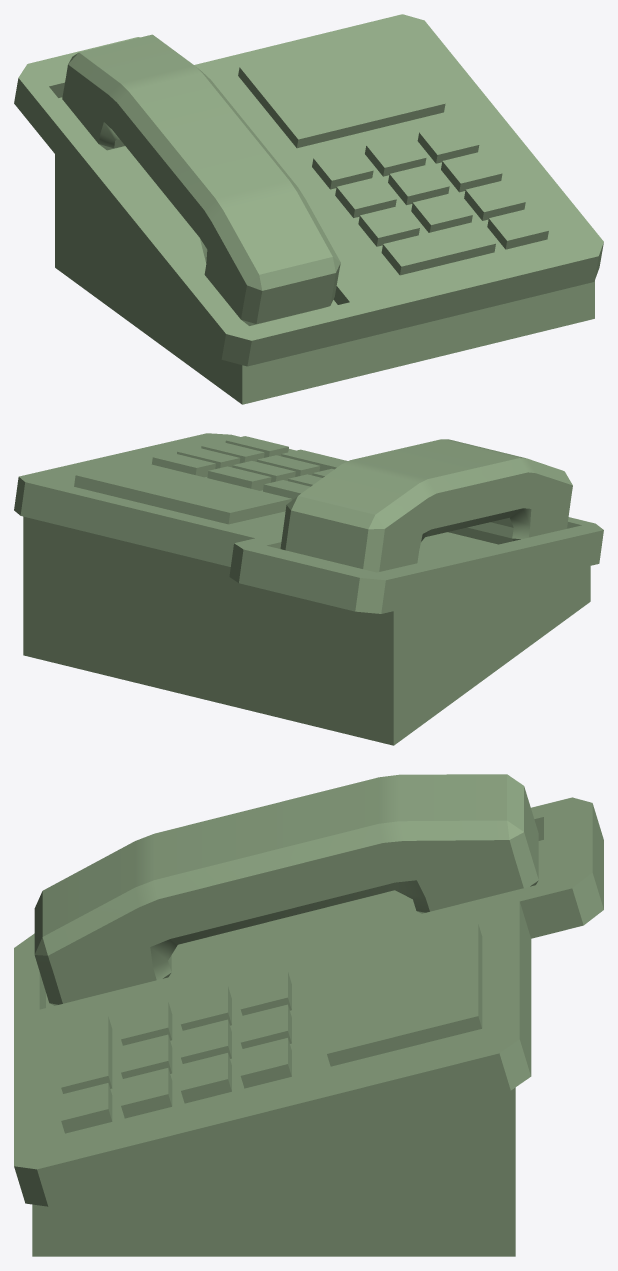
The model's file is Phone.fbx.
3 renders of one model, top to bottom at view 1: azimuth 30°, elevation 25°; view 2: azimuth 150°, elevation 25°; view 3: azimuth 270°, elevation 25°, orthographic. The views are drawn at different scales.
Visible parts, largest first — view 1: Phone; view 2: Phone; view 3: Phone.
Boxes of the visible parts, box(x1,y1,x2,y2) form: Phone: box(14, 14, 603, 404); Phone: box(14, 433, 603, 745); Phone: box(14, 774, 603, 1256).
Bounding box in the file's own units: 23.14 × 12.43 × 24.27.
